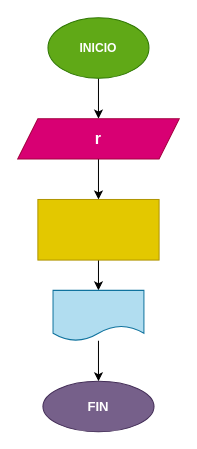
The diagram is 197 pixels wide and 449 high, and some of its shapes have lost their labels. Each missing label, with the centre of its shape:
a,p: the point at 98,315
a= π r 2 p= 2 πr: the point at 98,229
